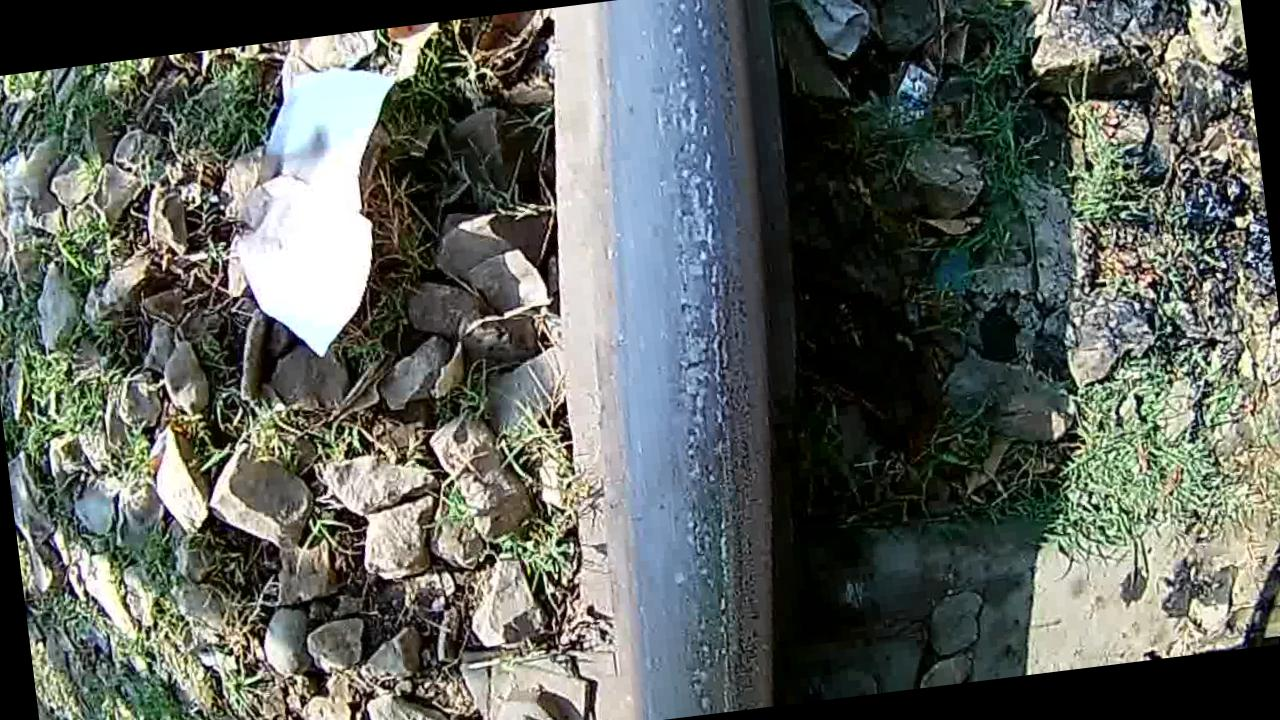clip_missing: (583, 0, 806, 714)
